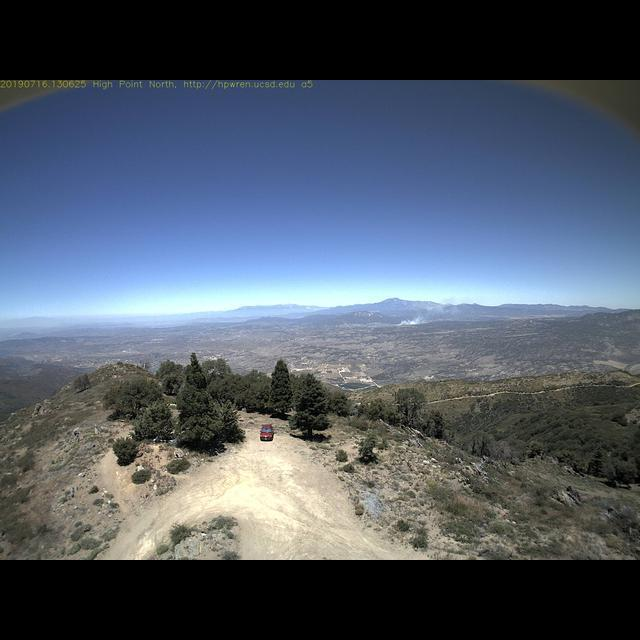Smoke: (387, 294, 467, 325)
